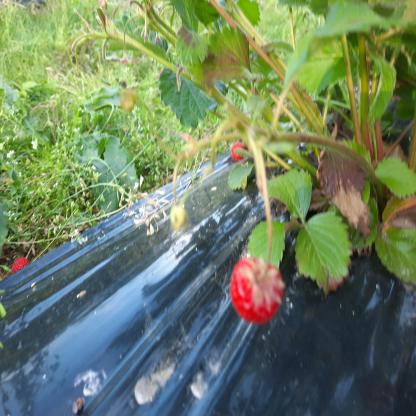ripe: (226, 263, 283, 319), (12, 258, 29, 279), (231, 140, 246, 161)
